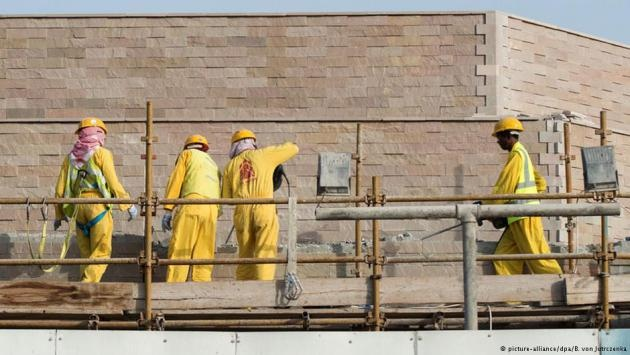yellow: (494, 115, 523, 150), (76, 116, 107, 145), (230, 129, 257, 152), (183, 134, 208, 153)
